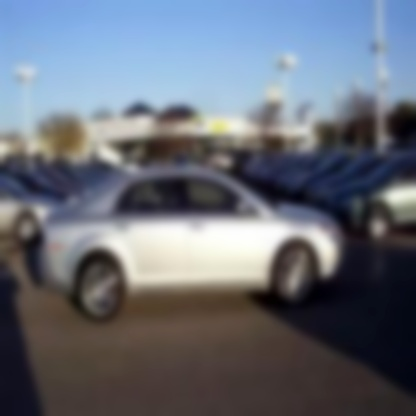Vehicle: (26, 131, 366, 342)
